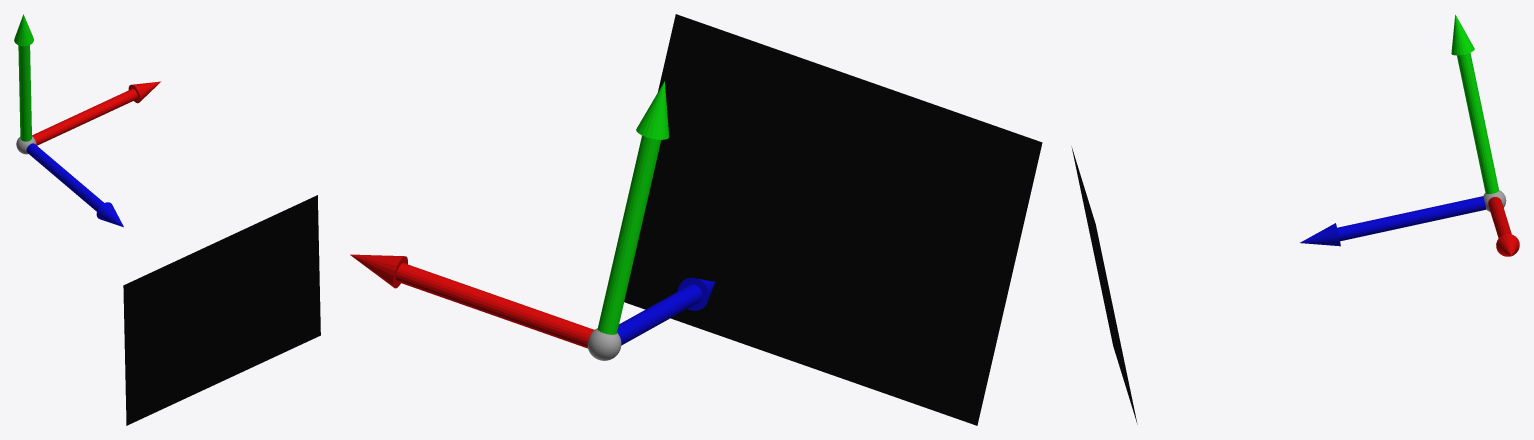
The picture shows the model from 3 angles, left to right: view 1: azimuth 30°, elevation 25°; view 2: azimuth 150°, elevation 25°; view 3: azimuth 270°, elevation 25°; orthographic projection. The views are drawn at different scales.
Size of the model in its own units: 0.1949 by 0.2458 by 0.2812.
